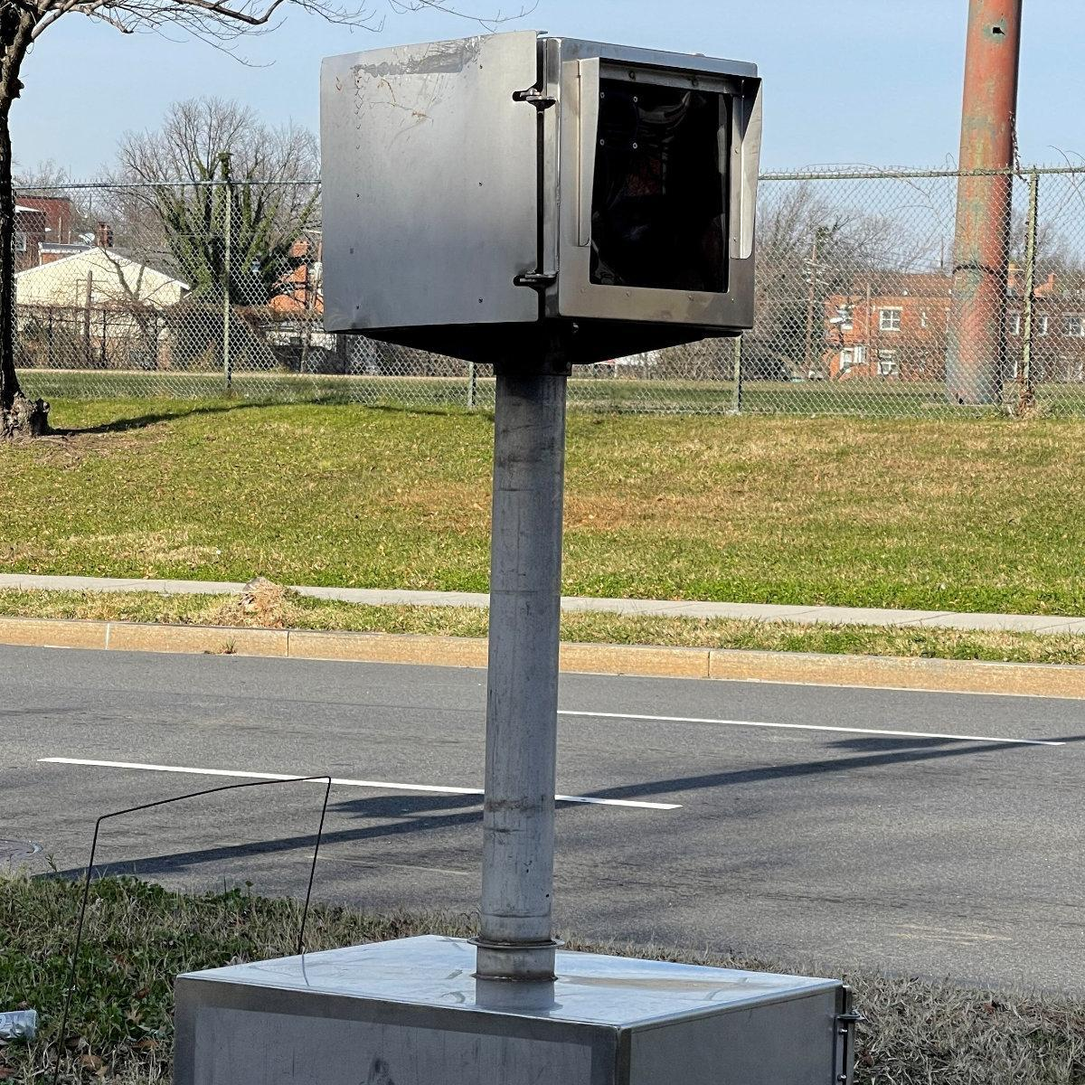Monitor: (317, 28, 763, 366)
